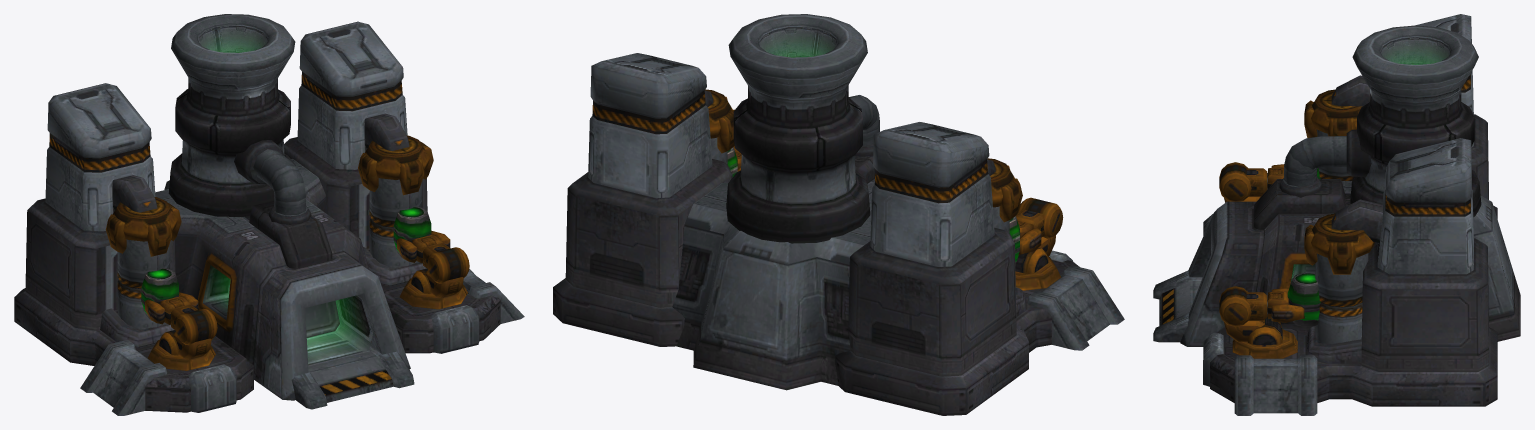
File: RefineryEx1.glb
3 renders of one model, left to right at view 1: azimuth 30°, elevation 25°; view 2: azimuth 150°, elevation 25°; view 3: azimuth 270°, elevation 25°, orthographic. The views are drawn at different scales.
Parts seen in each view (by area): view 1: Mesh; view 2: Mesh; view 3: Mesh.
Boxes of the visible parts, x1,y1,x2,y2 form: Mesh: (14,14,524,415); Mesh: (553,14,1124,415); Mesh: (1153,14,1520,415).
Size of the model in its own units: 4.55 by 2.86 by 3.53.
1 material, 1 textured.
